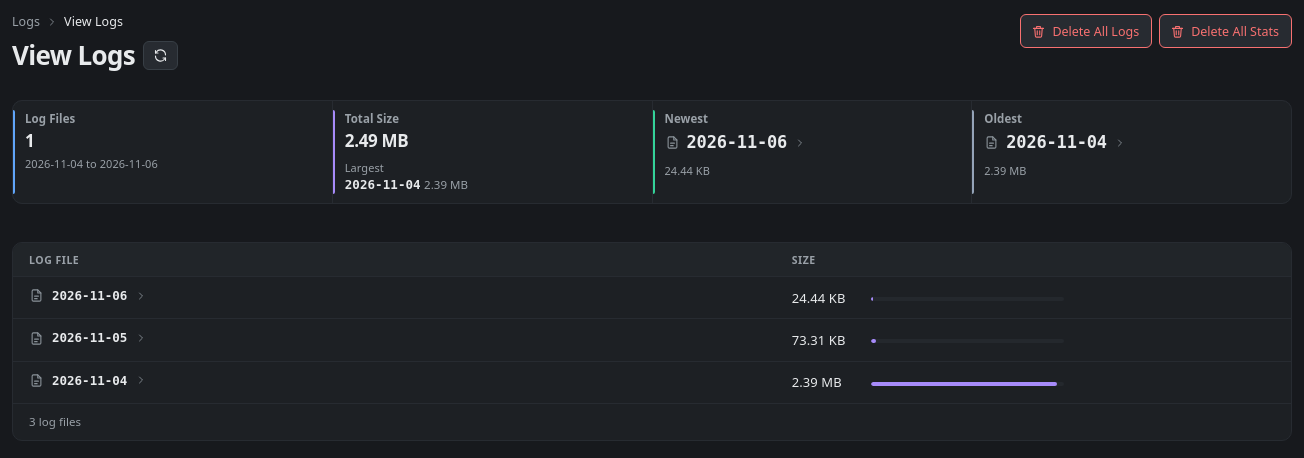
Test: View Logs: the open file › says what the text holds: the listed size, the entries, the first and the last
Click the 2nd button "2026-11-06" at [88, 296], box 29,287 -> 147,304
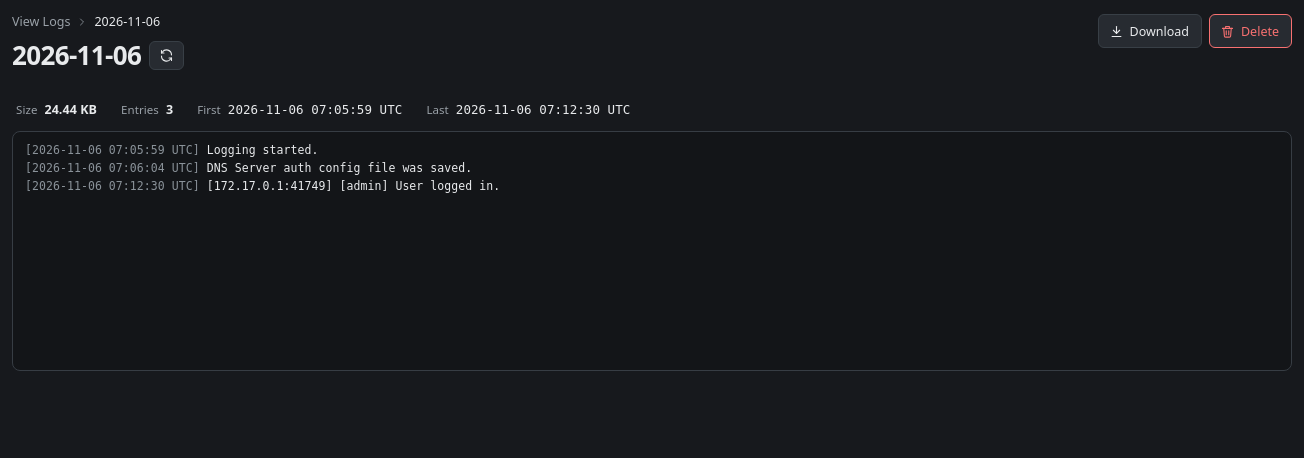
Result: the element named "2026-11-06 log file" is shown at 25,143 -> 500,193
